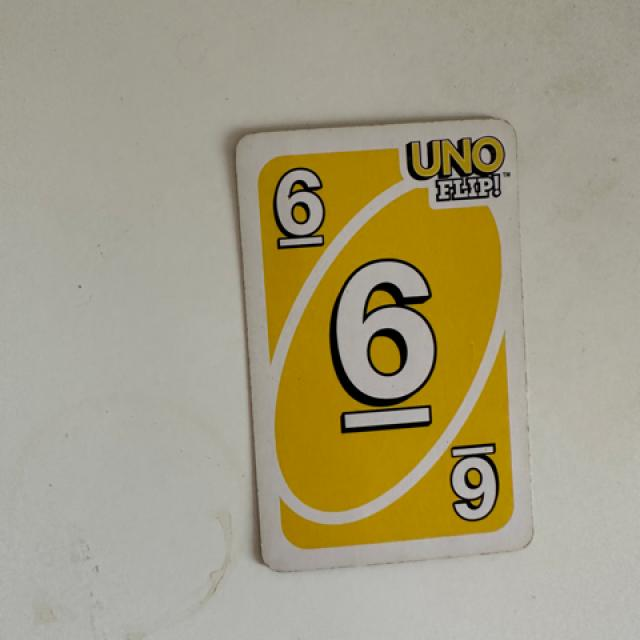lyellow-6: (252, 147, 349, 260)
